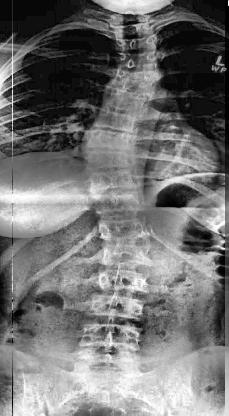Vertebrae: (78, 323, 145, 355), (86, 294, 146, 324), (98, 266, 156, 296), (99, 240, 155, 270), (102, 86, 154, 118), (89, 166, 140, 196), (92, 190, 146, 218), (99, 216, 150, 244), (110, 67, 162, 93), (85, 147, 135, 173), (87, 128, 136, 152), (93, 108, 138, 134), (117, 48, 163, 70), (115, 34, 159, 54)
